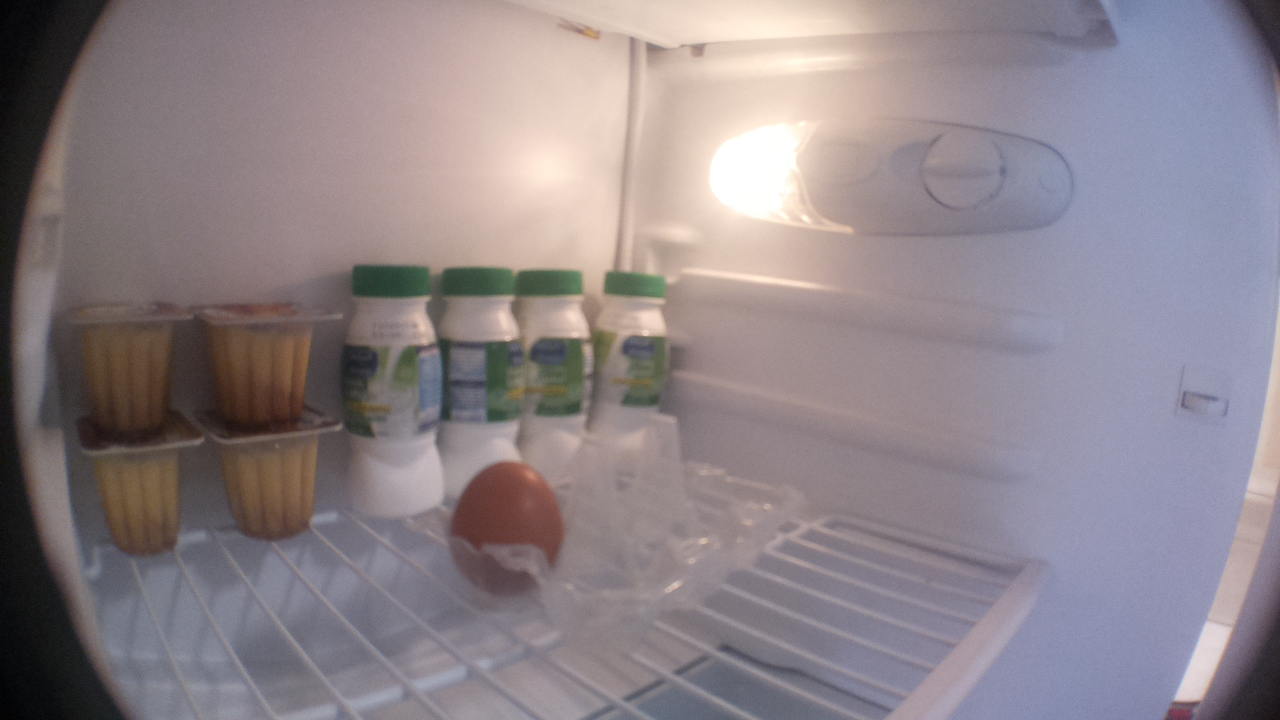caramel: (197, 282, 347, 429), (202, 401, 345, 550), (61, 415, 205, 558), (59, 286, 193, 434)
egg: (441, 463, 566, 609)
laban: (340, 260, 448, 528), (515, 258, 605, 462), (435, 264, 522, 462), (593, 267, 670, 422)
